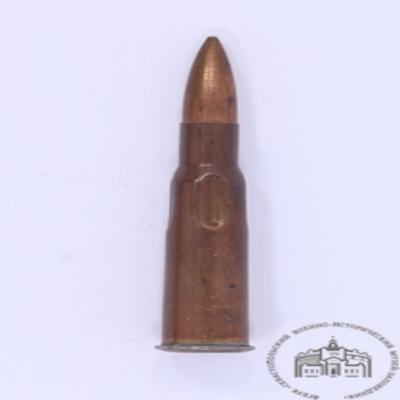weapon: (154, 36, 253, 354)
